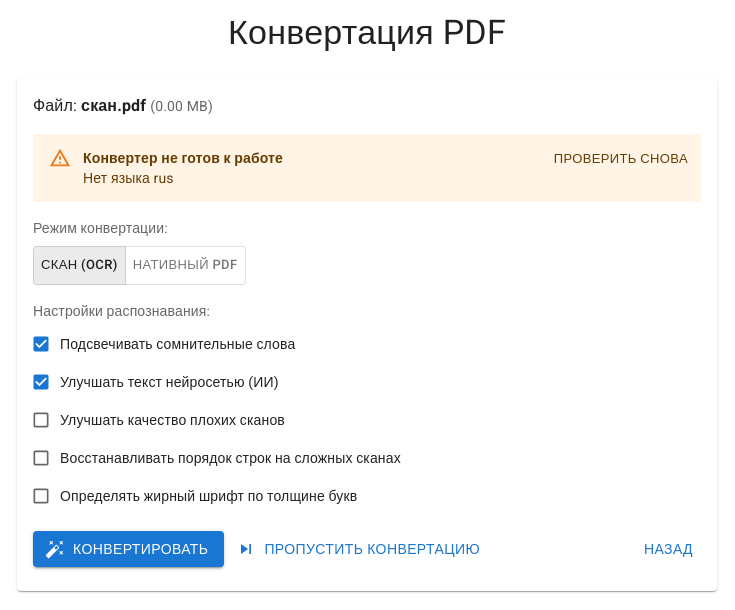
Test case: ConvertScreen › «Проверить снова» перезапрашивает готовность
Expected: the text "Конвертер не готов к работе" is shown, top-left (83, 148), bottom-right (283, 168)
Click the button "Проверить снова": [621, 159] box top-left (549, 144), bottom-right (693, 175)
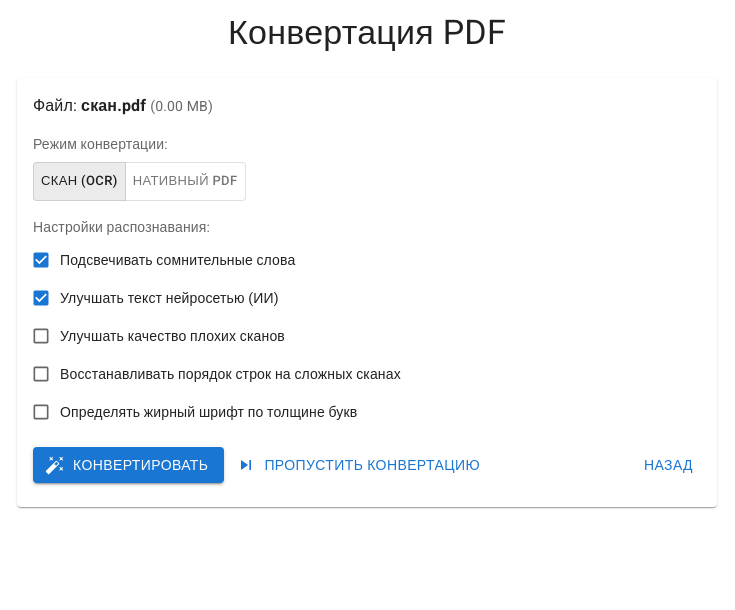
Expected: the text "Конвертер не готов к работе" is gone
